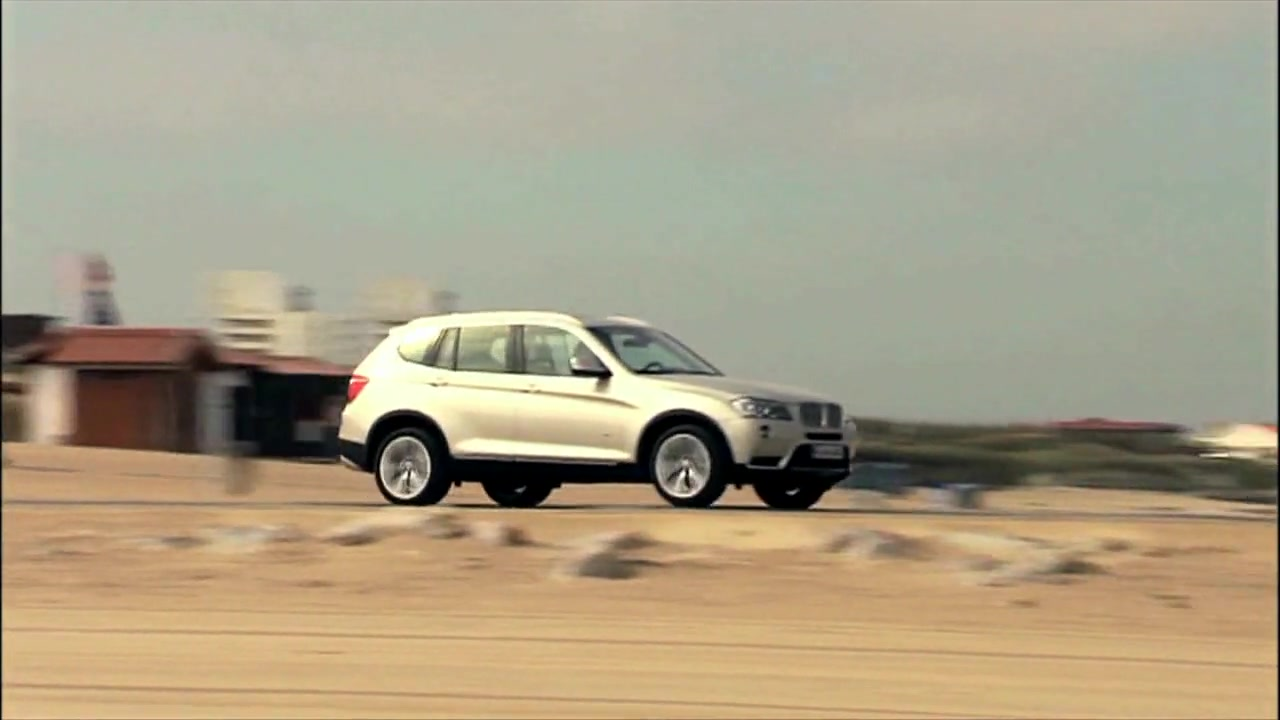car: (333, 315, 860, 511)
